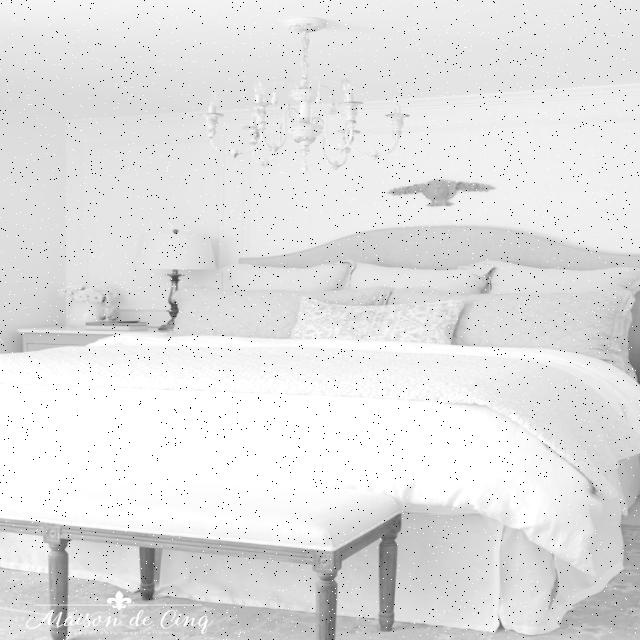bed: (10, 233, 636, 502)
